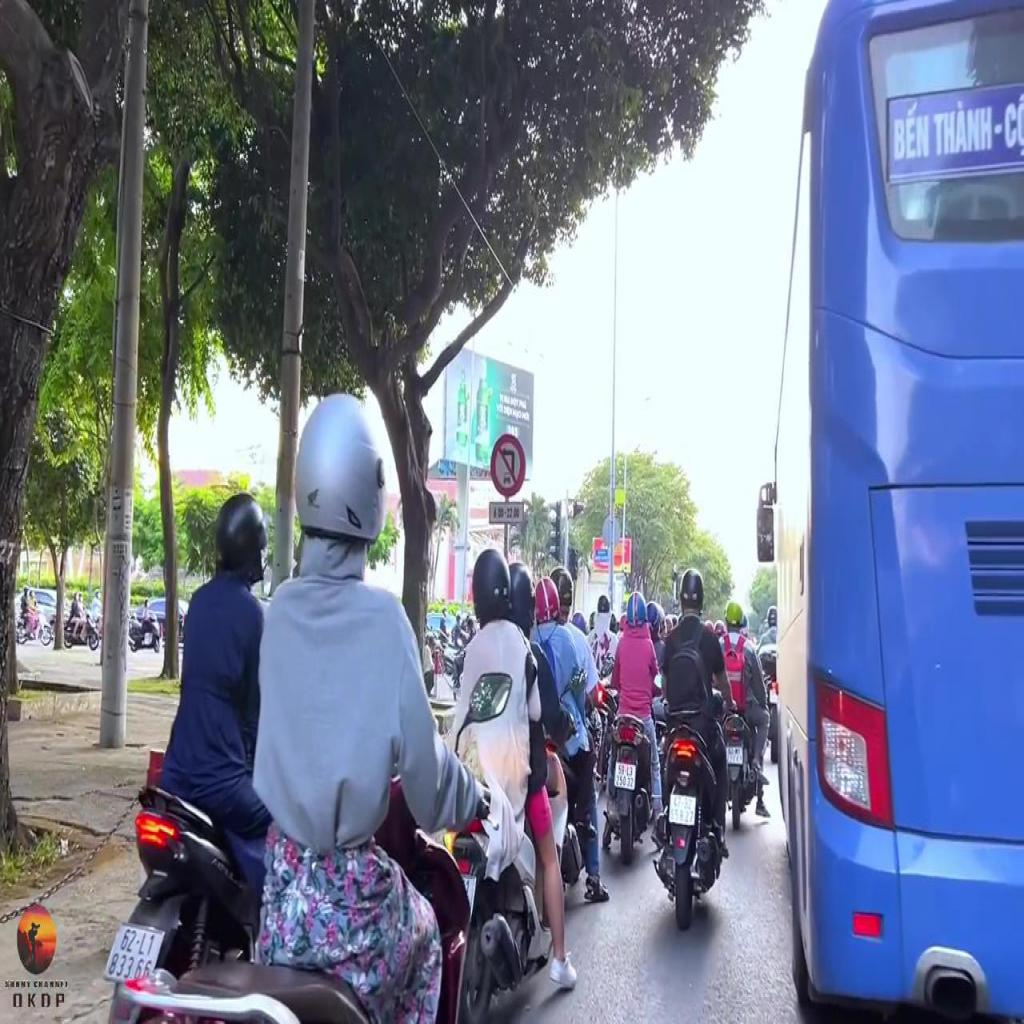cam_o_to_re_trai: (490, 434, 528, 499)
khac: (490, 504, 522, 524)
